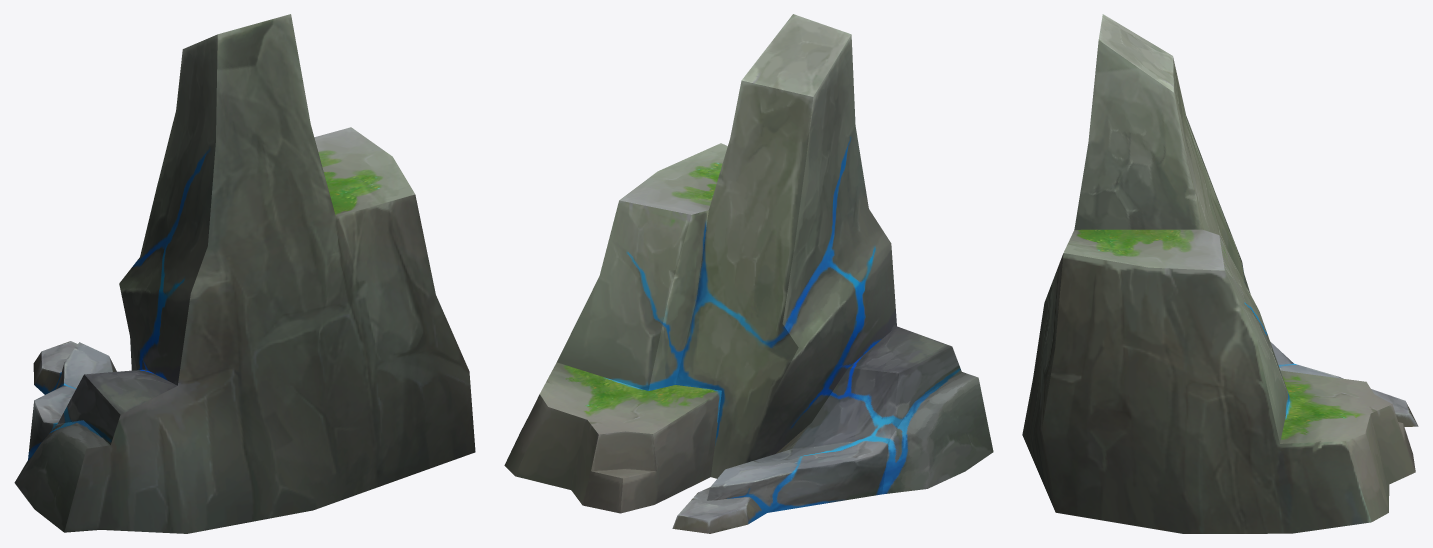
Rendered from xsc_4_00.fbx.
3 renders of one model, left to right at view 1: azimuth 30°, elevation 25°; view 2: azimuth 150°, elevation 25°; view 3: azimuth 270°, elevation 25°, orthographic. The views are drawn at different scales.
Visible parts, largest first — view 1: xsc_4_00; view 2: xsc_4_00; view 3: xsc_4_00.
Boxes of the visible parts, x1,y1,x2,y2 form: xsc_4_00: (14,14,475,533); xsc_4_00: (504,14,993,533); xsc_4_00: (1022,14,1418,533).
Size of the model in its own units: 1127 by 1124 by 999.
